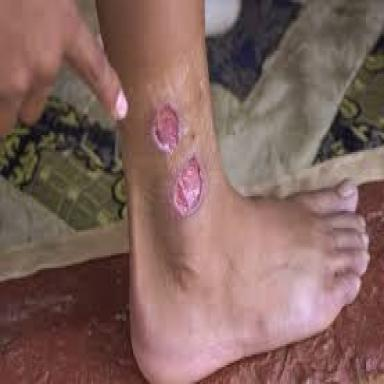Leishmanios: (169, 151, 207, 217), (151, 102, 185, 154)
